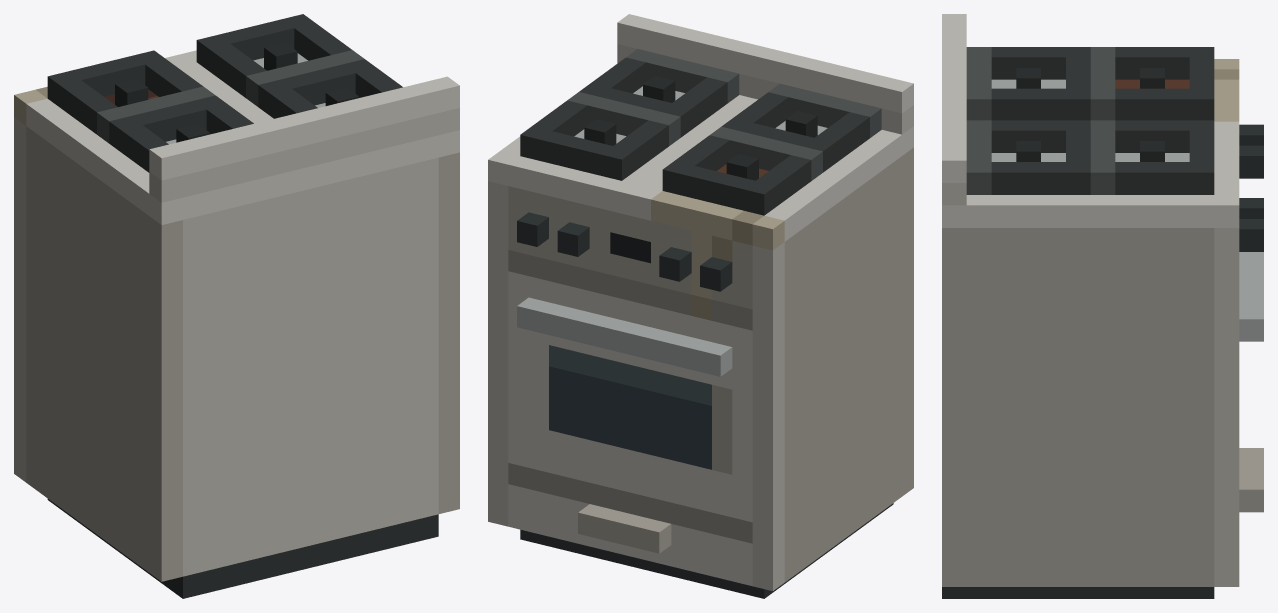
The model's file is Claude_kitchen_oven.glb.
The picture shows the model from 3 angles, left to right: view 1: azimuth 30°, elevation 25°; view 2: azimuth 150°, elevation 25°; view 3: azimuth 270°, elevation 25°; orthographic projection. The views are drawn at different scales.
Visible parts, largest first — view 1: Claude_kitchen_oven; view 2: Claude_kitchen_oven; view 3: Claude_kitchen_oven.
Boxes of the visible parts, x1,y1,x2,y2 form: Claude_kitchen_oven: (14, 14, 459, 598); Claude_kitchen_oven: (488, 14, 913, 598); Claude_kitchen_oven: (942, 14, 1263, 598).
Size of the model in its own units: 0.7 by 1 by 0.65.
